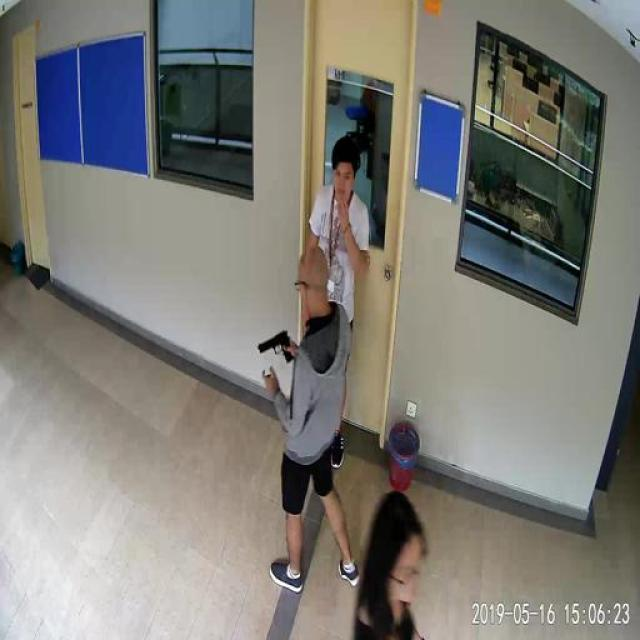Gun: (248, 327, 296, 365)
